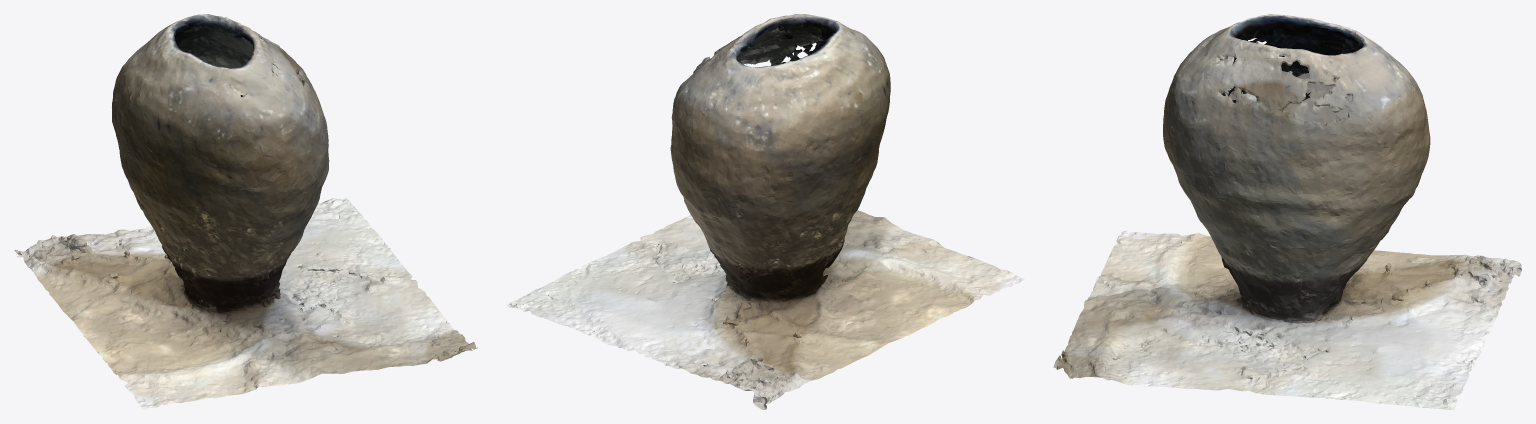
File: leaonie_pottery_vase.glb
3 views of the same model, side by side, from view 1: azimuth 30°, elevation 25°; view 2: azimuth 150°, elevation 25°; view 3: azimuth 270°, elevation 25° (orthographic). The views are drawn at different scales.
Size of the model in its own units: 0.3498 by 0.2557 by 0.3807.
1 material, 1 textured.
